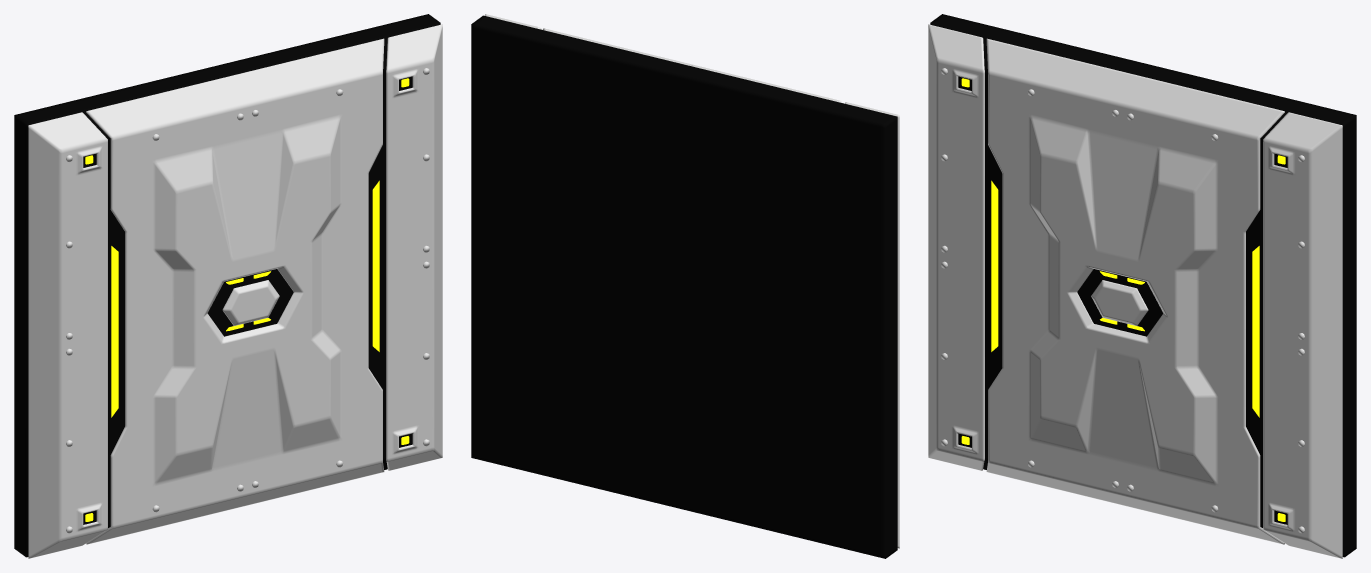
3 views of the same model, side by side, from view 1: azimuth 30°, elevation 25°; view 2: azimuth 150°, elevation 25°; view 3: azimuth 330°, elevation 25° (orthographic).
Parts seen in each view (by area): view 1: SciFi_Panel_001; view 2: SciFi_Panel_001; view 3: SciFi_Panel_001.
Part boxes in pixels (x1=…): SciFi_Panel_001: x1=14, y1=14, x2=442, y2=558; SciFi_Panel_001: x1=471, y1=14, x2=899, y2=558; SciFi_Panel_001: x1=928, y1=14, x2=1356, y2=558.
Size of the model in its own units: 200 by 200 by 26.73.
